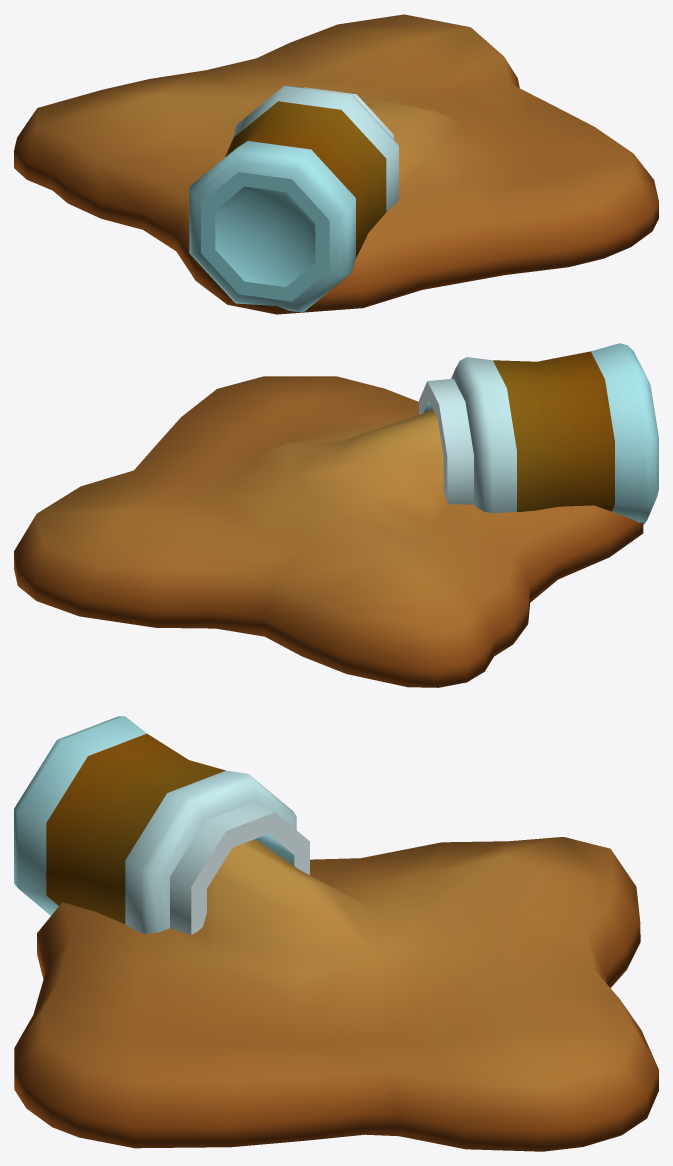
Rendered from Mesh_Honey.fbx.
3 renders of one model, top to bottom at view 1: azimuth 30°, elevation 25°; view 2: azimuth 150°, elevation 25°; view 3: azimuth 270°, elevation 25°, orthographic. The views are drawn at different scales.
Visible parts, largest first — view 1: Circle; view 2: Circle; view 3: Circle.
Part boxes in pixels (x1,y1,x2,y2): Circle: [14, 14, 658, 314]; Circle: [14, 343, 658, 687]; Circle: [14, 716, 658, 1151].
Bounding box in the file's own units: 214 × 217 × 68.87.
